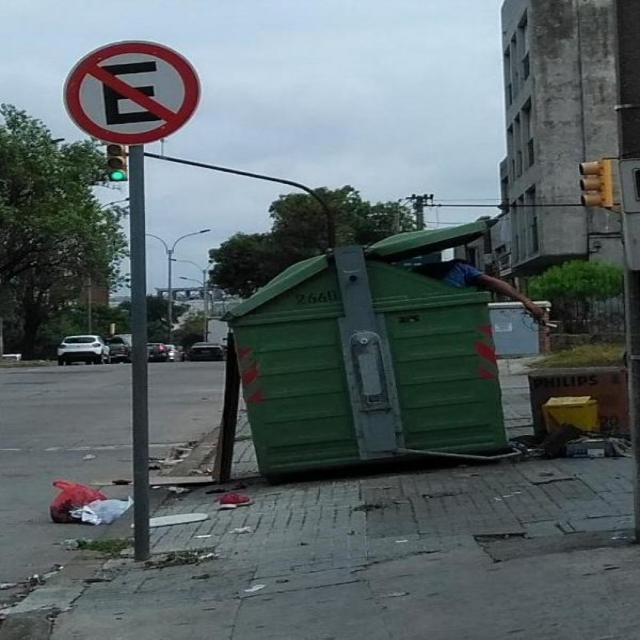garbage: (510, 356, 639, 473), (148, 468, 286, 550), (30, 480, 164, 552)
